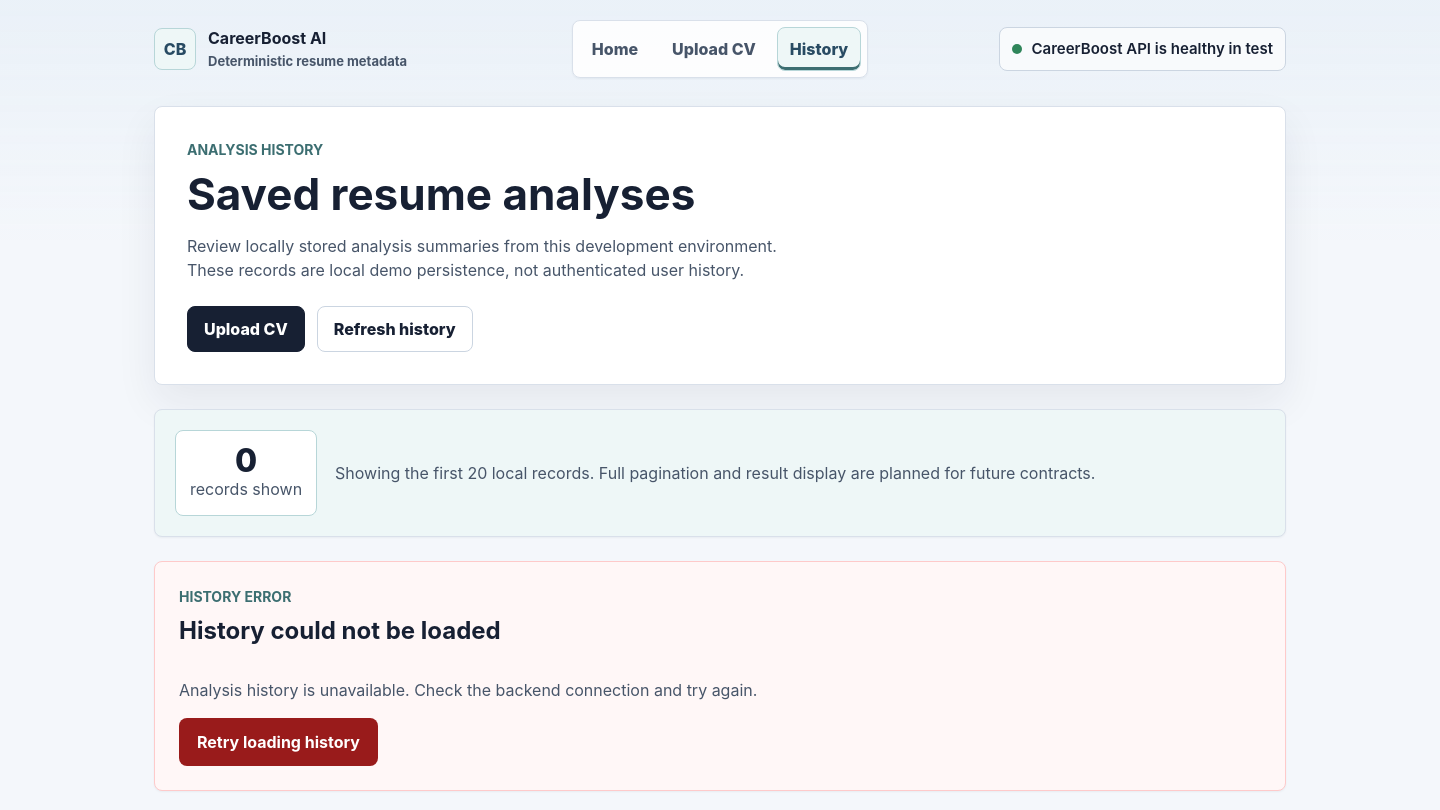
Scenario: App › renders a safe backend error state and retries loading history
The image size is (1440, 810).
Expected: the message shows "Analysis history is unavailable. Check the backend connection and try again.", [179,680,757,700]
Click the button "Retry loading history": {"x": 278, "y": 742} [179,718,378,766]
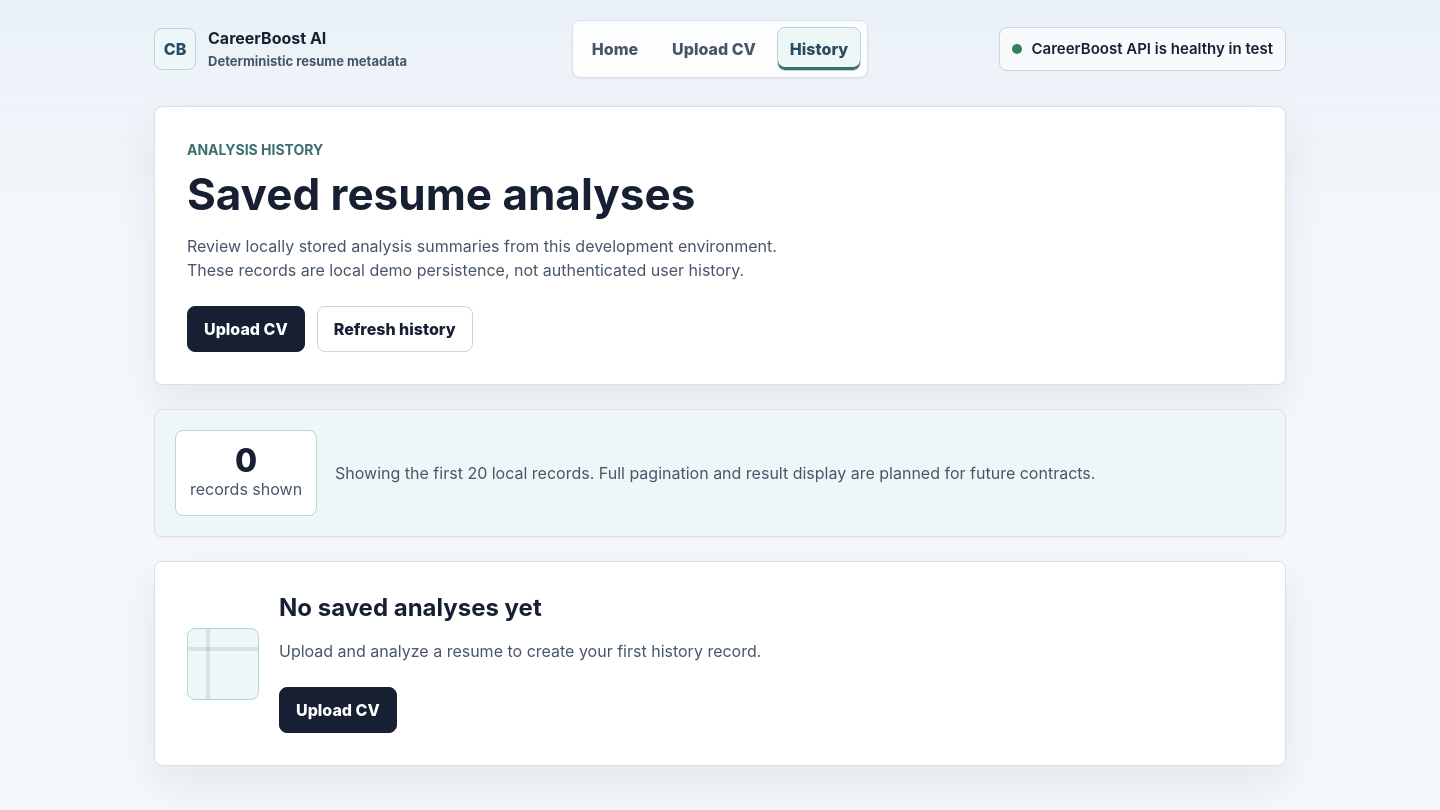
Now the heading "No saved analyses yet" is shown, box [279,593,542,622]
